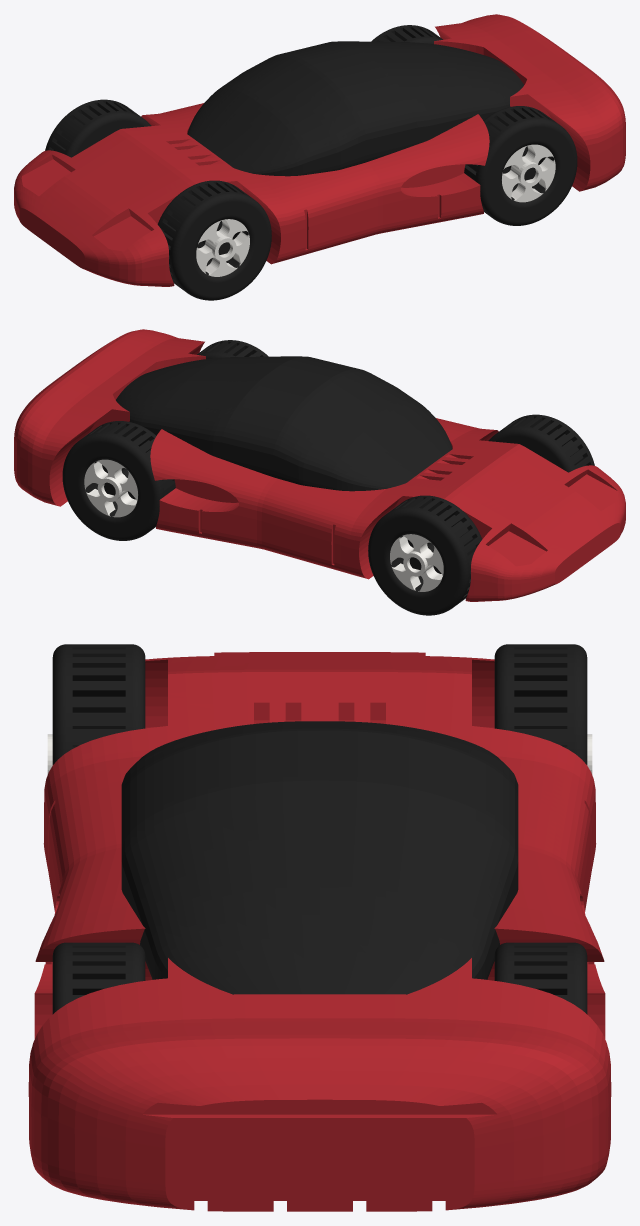
The picture shows the model from 3 angles, top to bottom: view 1: azimuth 30°, elevation 25°; view 2: azimuth 150°, elevation 25°; view 3: azimuth 270°, elevation 25°; orthographic projection. The views are drawn at different scales.
Parts seen in each view (by area): view 1: red_body, black_canopy, white_rims; view 2: red_body, black_canopy, white_rims; view 3: red_body, black_canopy.
Part boxes in pixels (bbox=[...]): red_body: bbox=[14, 14, 625, 286]; black_canopy: bbox=[45, 25, 577, 300]; white_rims: bbox=[196, 144, 555, 276]; red_body: bbox=[14, 329, 625, 601]; black_canopy: bbox=[62, 340, 594, 615]; white_rims: bbox=[84, 459, 443, 591]; red_body: bbox=[28, 652, 611, 1211]; black_canopy: bbox=[52, 644, 587, 1014].
Bounding box in the file's own units: 0.092 × 0.0241 × 0.044.
